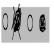correct: (39, 12, 46, 35)
no answer: (26, 11, 34, 34)
not correct: (11, 2, 23, 41)
